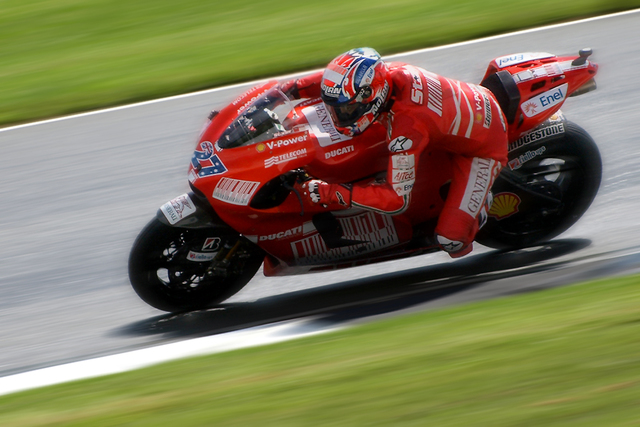helmet: (322, 57, 400, 128)
